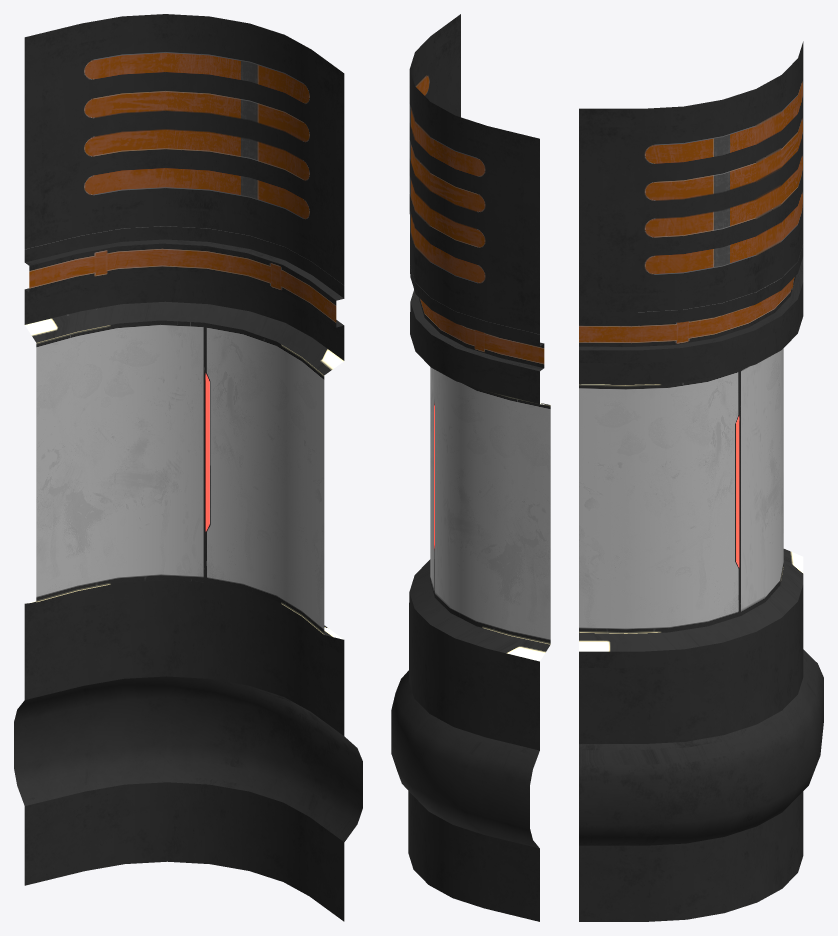
Rendered from SBendWall.fbx.
3 renders of one model, left to right at view 1: azimuth 30°, elevation 25°; view 2: azimuth 150°, elevation 25°; view 3: azimuth 270°, elevation 25°, orthographic. The views are drawn at different scales.
Parts seen in each view (by area): view 1: SBendWall; view 2: SBendWall; view 3: SBendWall.
Boxes of the visible parts, box(x1,y1,x2,y2) form: SBendWall: box(14, 14, 362, 921); SBendWall: box(391, 14, 550, 921); SBendWall: box(579, 41, 823, 921).
Bounding box in the file's own units: 136 × 500 × 136.
